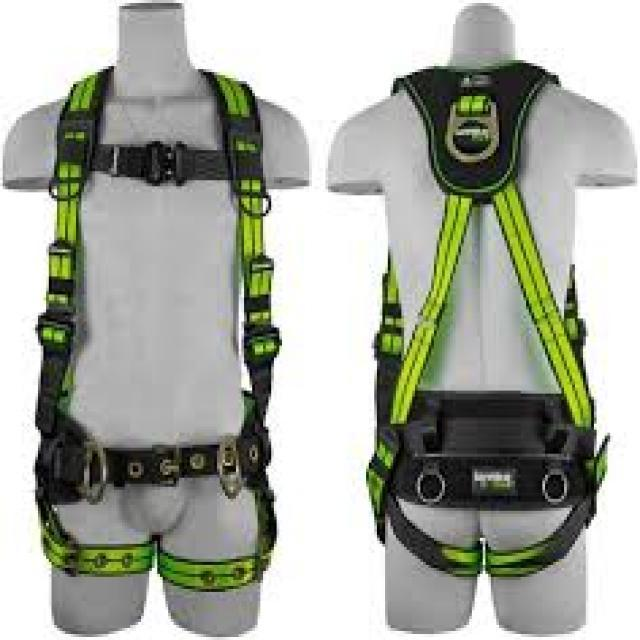belt: (30, 60, 294, 591), (361, 56, 613, 575)
